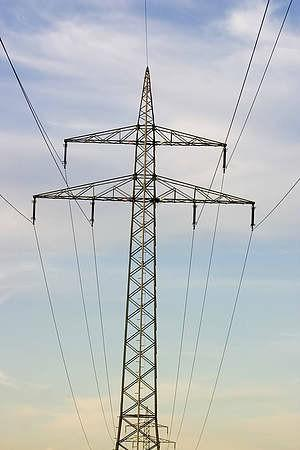power_tower: (24, 60, 258, 450)
